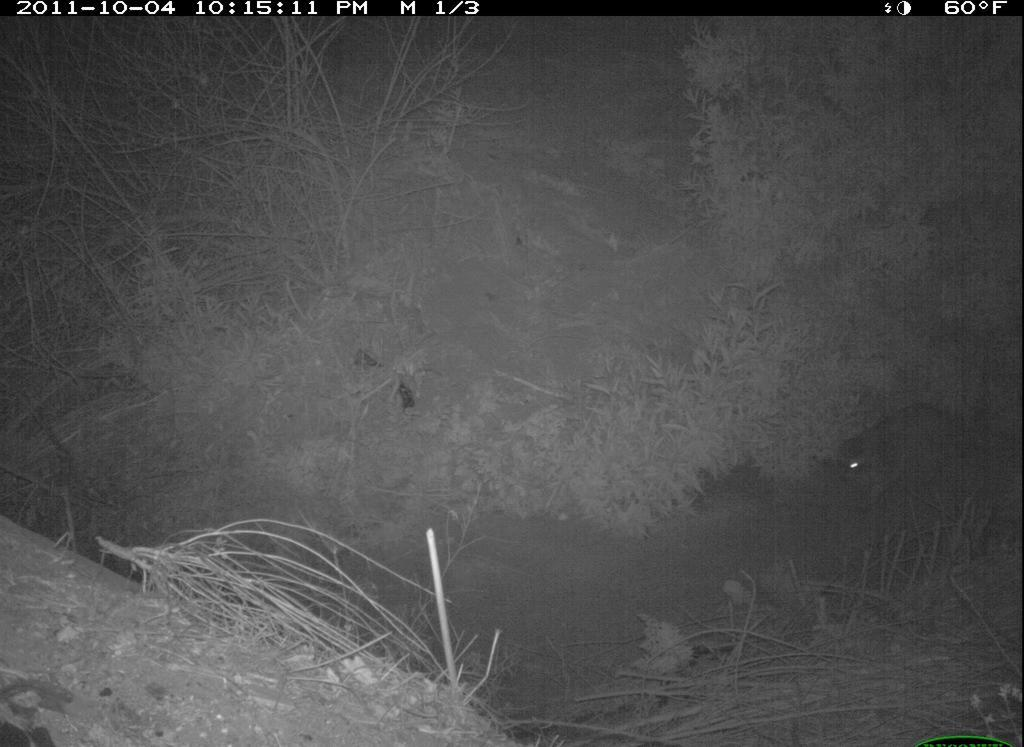raccoon: (827, 397, 1008, 525)
